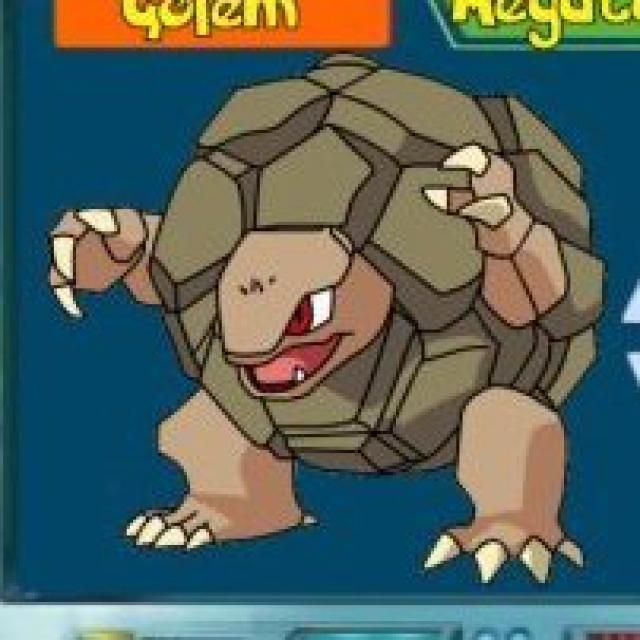Golem: (68, 51, 611, 549)
